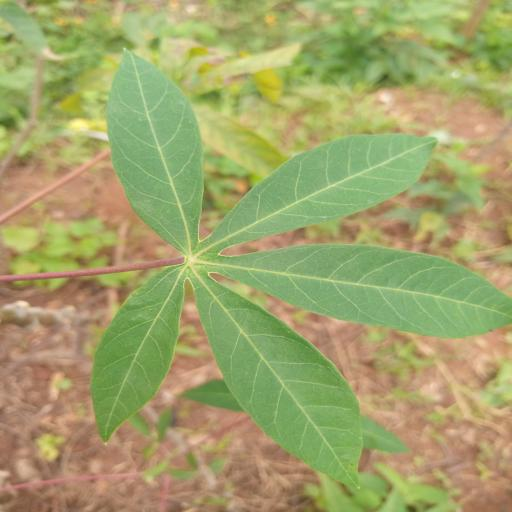Cassava_Healthy: (85, 46, 512, 494)
